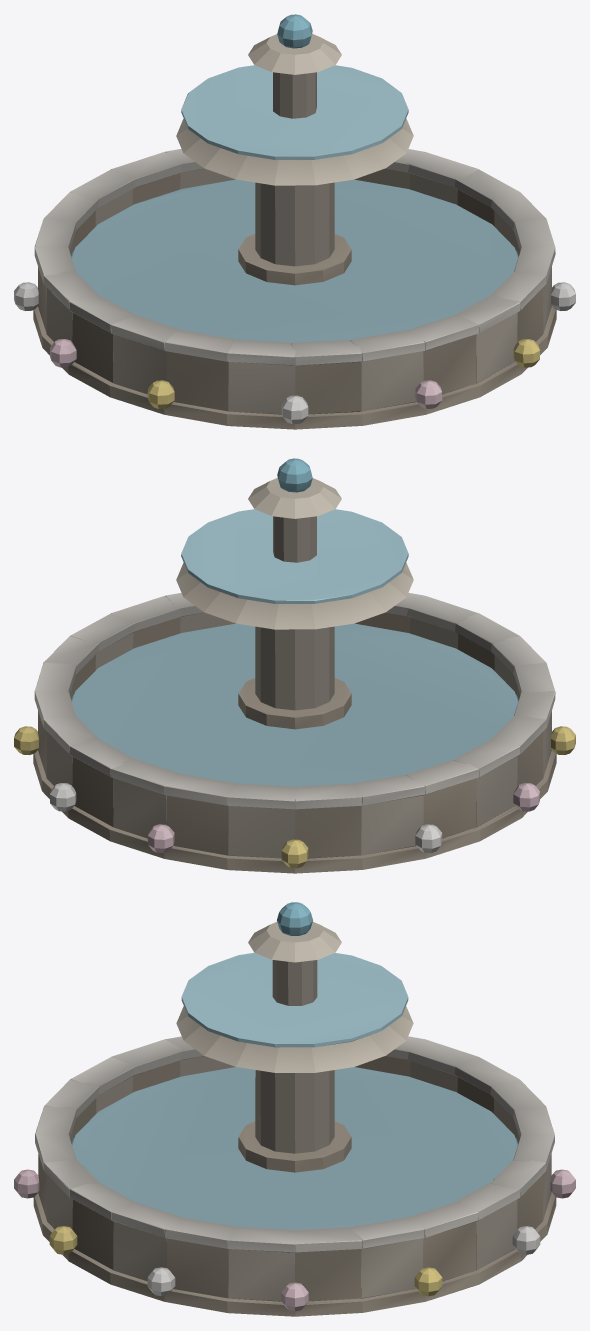
The model's file is fountain_low.glb.
3 views of the same model, one above another, from view 1: azimuth 30°, elevation 25°; view 2: azimuth 150°, elevation 25°; view 3: azimuth 270°, elevation 25° (orthographic).
Bounding box in the file's own units: 4.94 × 2.94 × 4.94.
